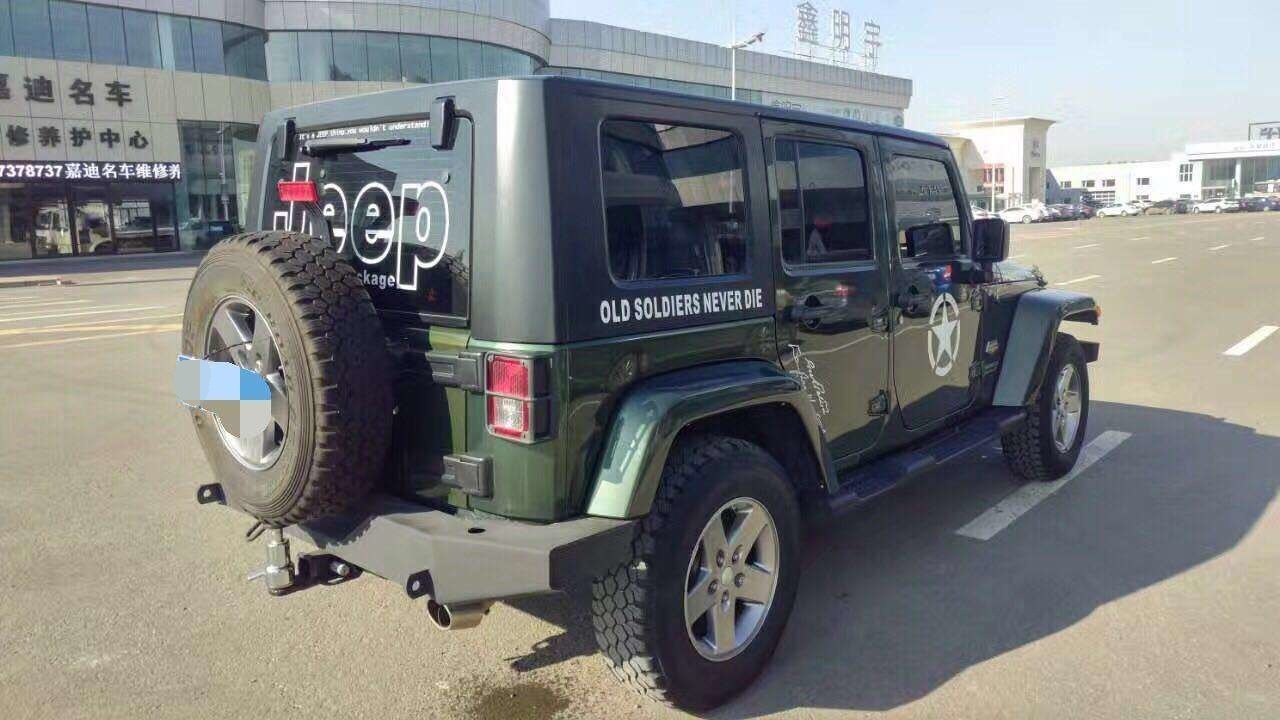jeep: (175, 75, 1132, 655)
